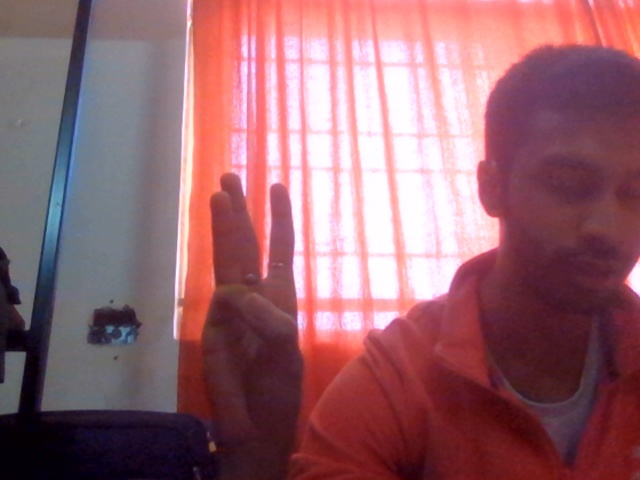W: (161, 146, 345, 474)
